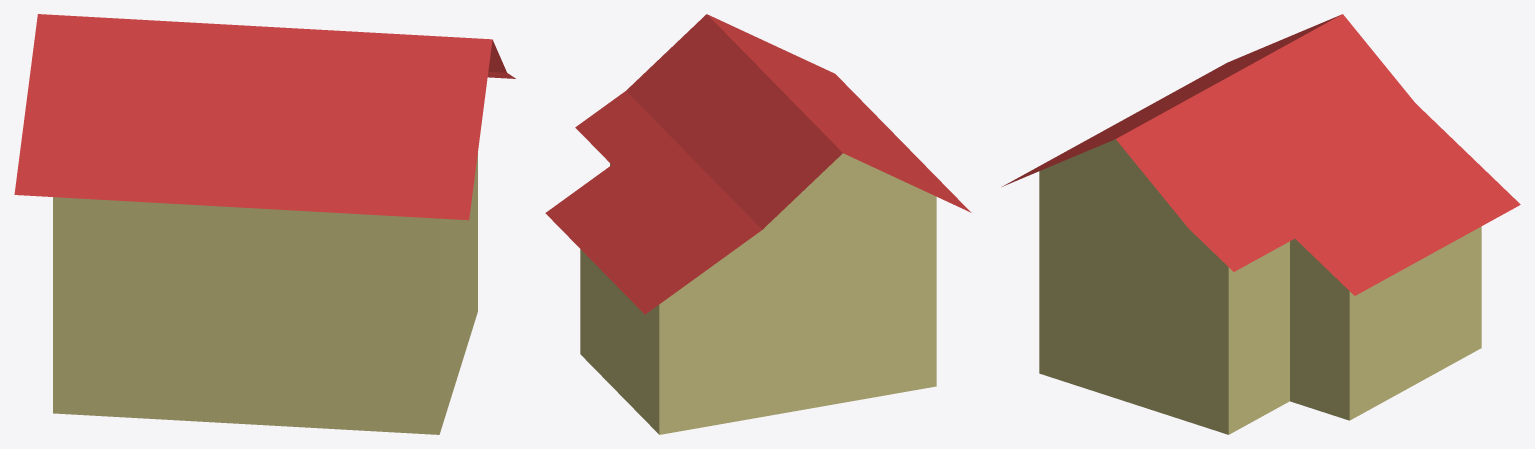
3 views of the same model, side by side, from view 1: azimuth 30°, elevation 25°; view 2: azimuth 150°, elevation 25°; view 3: azimuth 270°, elevation 25° (orthographic). The views are drawn at different scales.
Bounding box in the file's own units: 16.97 × 18.59 × 10.8.
